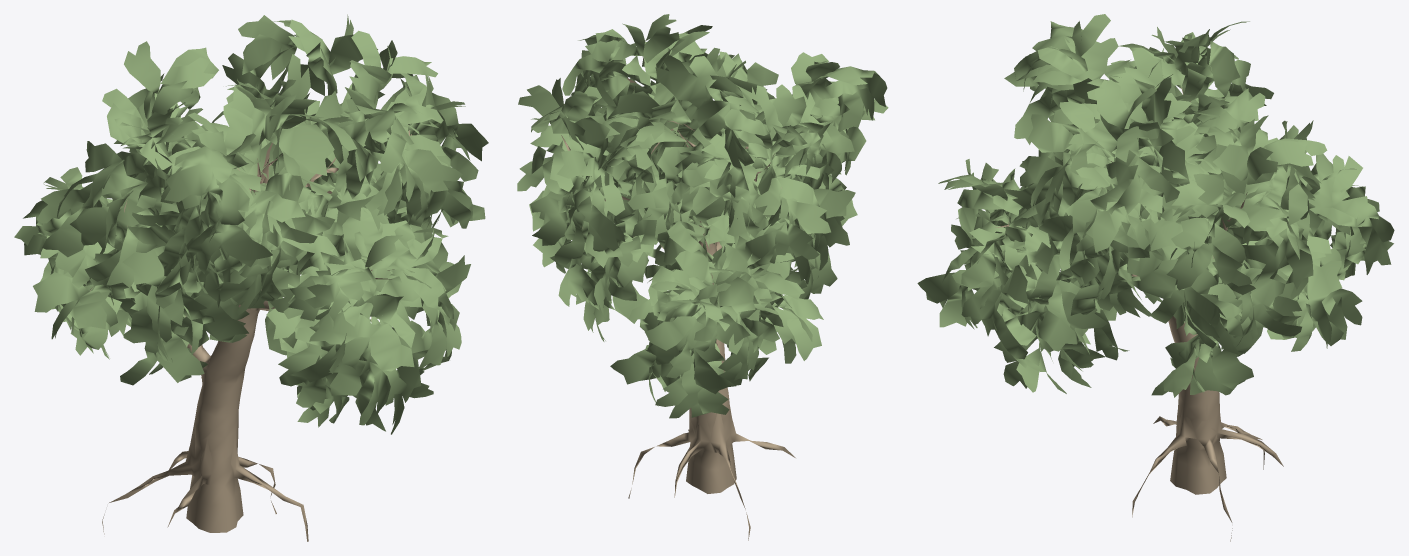
File: willow.glb
The picture shows the model from 3 angles, left to right: view 1: azimuth 30°, elevation 25°; view 2: azimuth 150°, elevation 25°; view 3: azimuth 270°, elevation 25°; orthographic projection. The views are drawn at different scales.
Size of the model in its own units: 11.55 by 15.2 by 13.94.
